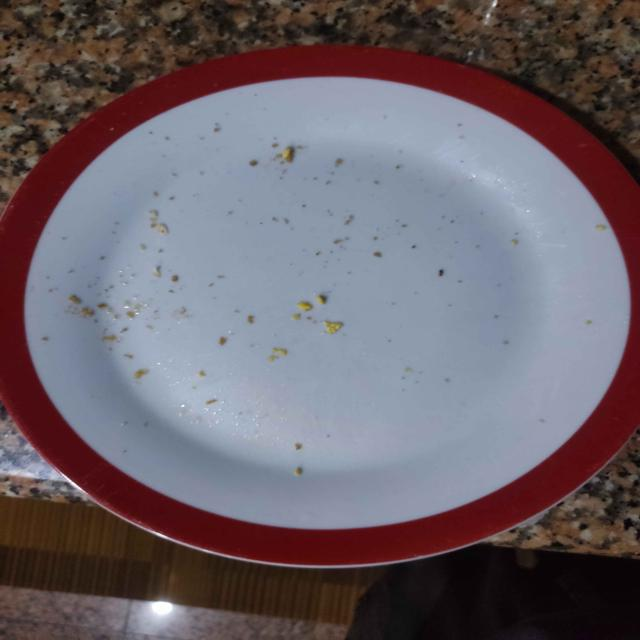plate: (24, 77, 631, 530)
